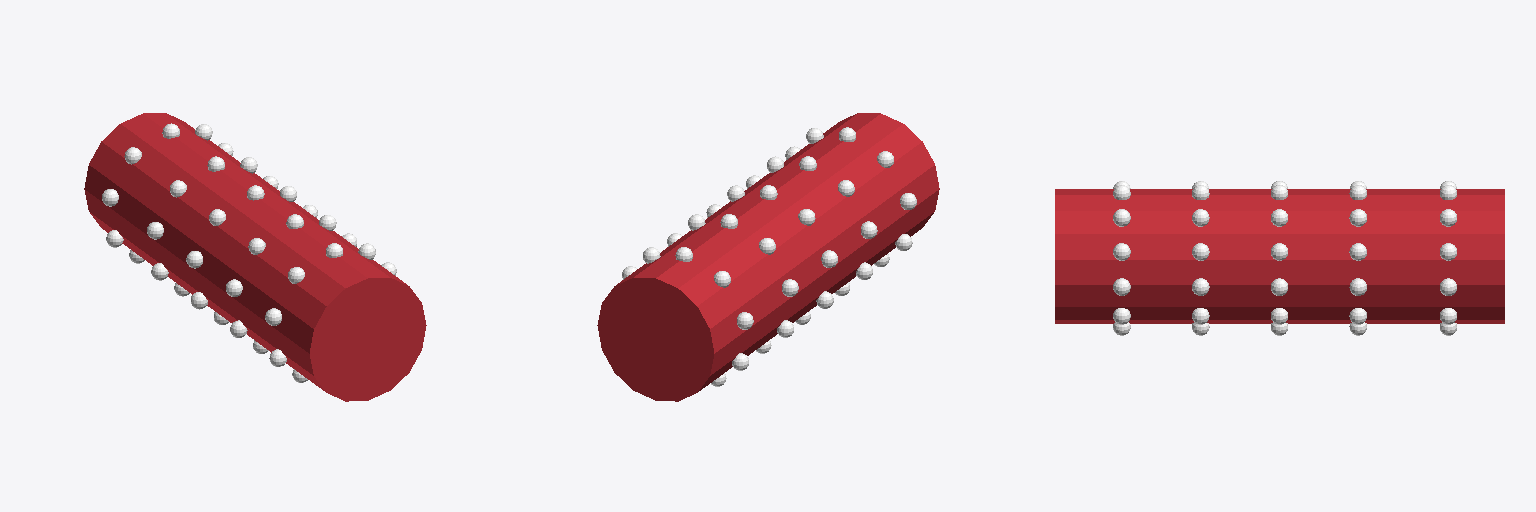
The model's file is game.obj.
3 renders of one model, left to right at view 1: azimuth 30°, elevation 25°; view 2: azimuth 150°, elevation 25°; view 3: azimuth 270°, elevation 25°, orthographic.
Parts seen in each view (by area): view 1: Cylinder; view 2: Cylinder; view 3: Cylinder.
Part boxes in pixels (left/top/right/bottom): Cylinder: left=84, top=113, right=426, bottom=401; Cylinder: left=597, top=113, right=939, bottom=401; Cylinder: left=1055, top=189, right=1504, bottom=323.
Bounding box in the file's own units: 353 × 344 × 1000.